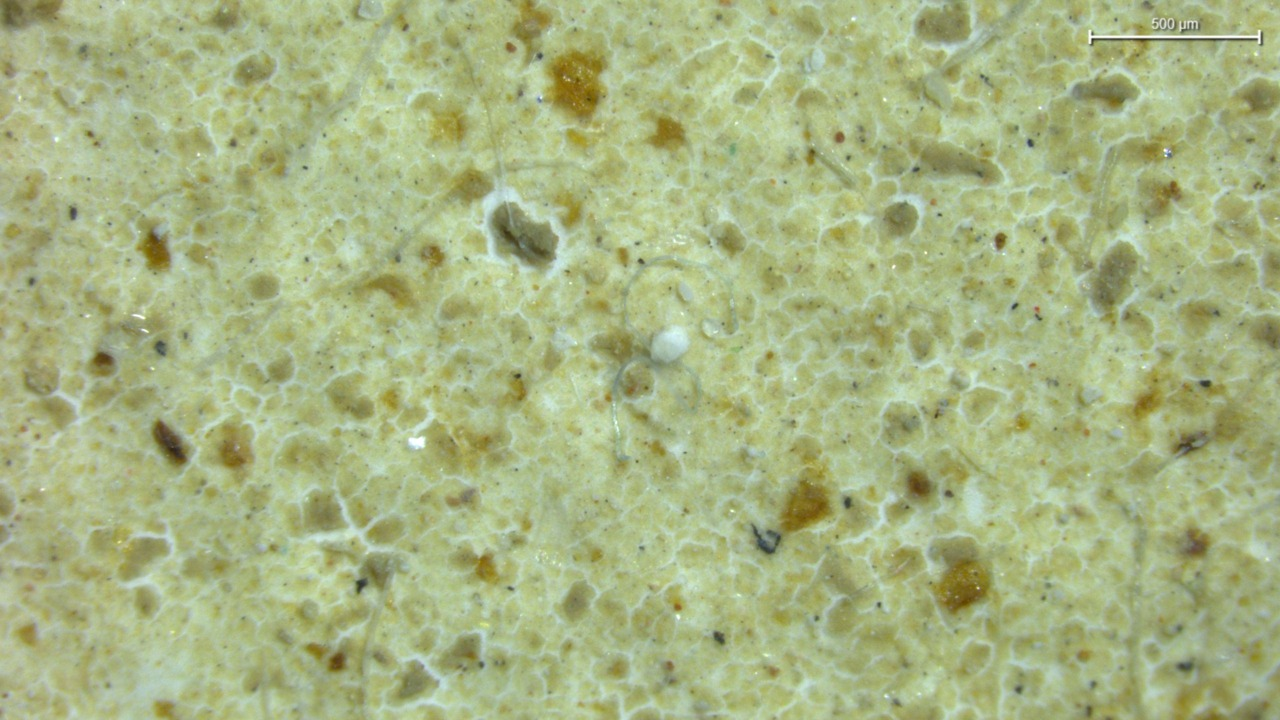microplastic_fragment: (650, 326, 690, 363)
